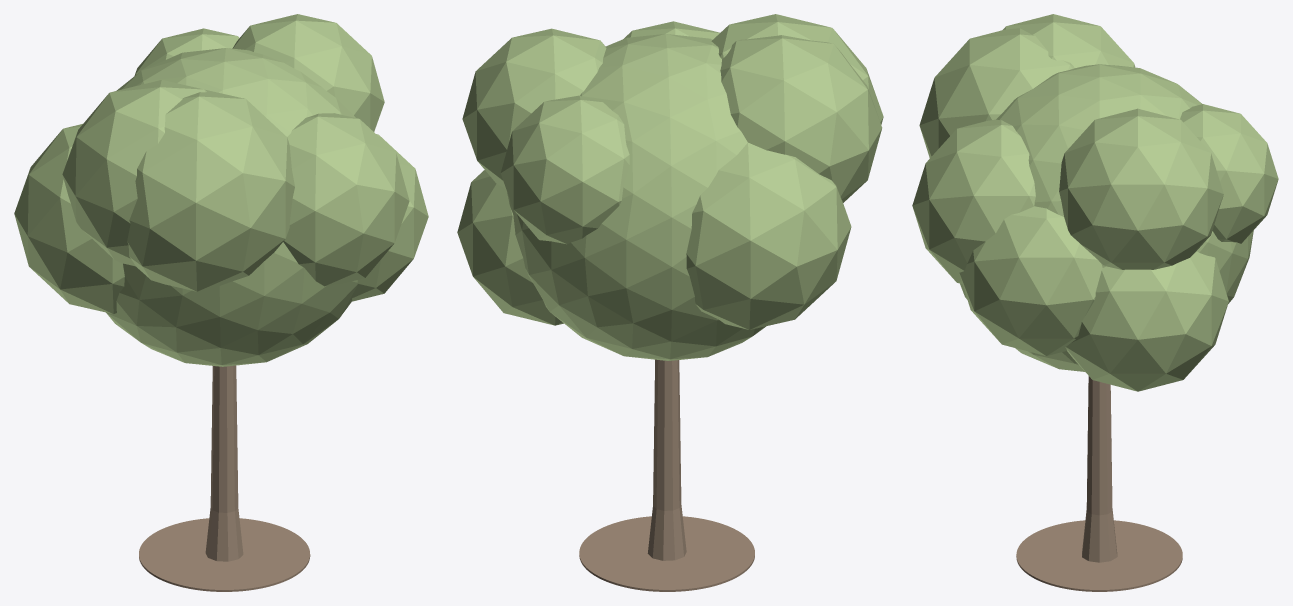
Rendered from tree_b.glb.
The picture shows the model from 3 angles, left to right: view 1: azimuth 30°, elevation 25°; view 2: azimuth 150°, elevation 25°; view 3: azimuth 270°, elevation 25°; orthographic projection. The views are drawn at different scales.
Parts seen in each view (by area): view 1: tree_b_leaf2, tree_b_mulch, tree_b_bark; view 2: tree_b_leaf2, tree_b_mulch, tree_b_bark; view 3: tree_b_leaf2, tree_b_mulch, tree_b_bark.
Boxes of the visible parts, bbox=[...] form: tree_b_leaf2: bbox=[14, 14, 428, 366]; tree_b_mulch: bbox=[139, 518, 310, 591]; tree_b_bark: bbox=[205, 365, 243, 561]; tree_b_leaf2: bbox=[457, 14, 883, 360]; tree_b_mulch: bbox=[579, 516, 754, 591]; tree_b_bark: bbox=[647, 359, 686, 560]; tree_b_leaf2: bbox=[912, 14, 1278, 391]; tree_b_mulch: bbox=[1016, 520, 1182, 591]; tree_b_bark: bbox=[1082, 376, 1117, 562].
Bounding box in the file's own units: 3.81 × 5.23 × 3.52.
